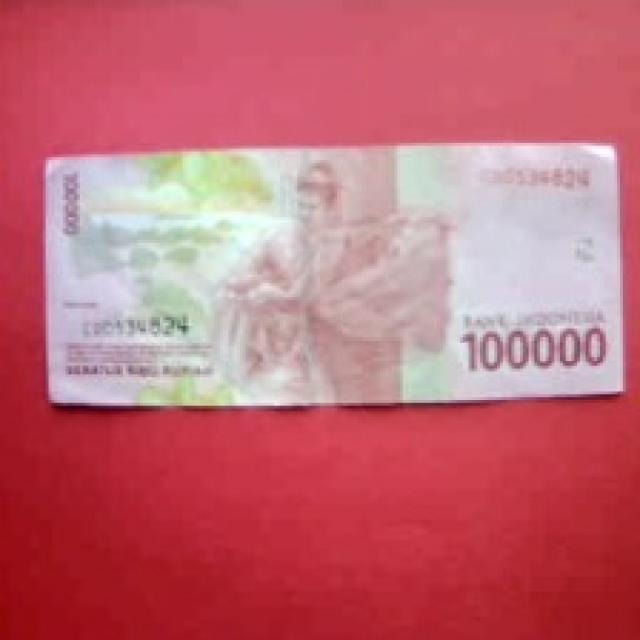lima puluh ribu rupiah: (19, 133, 640, 415)
